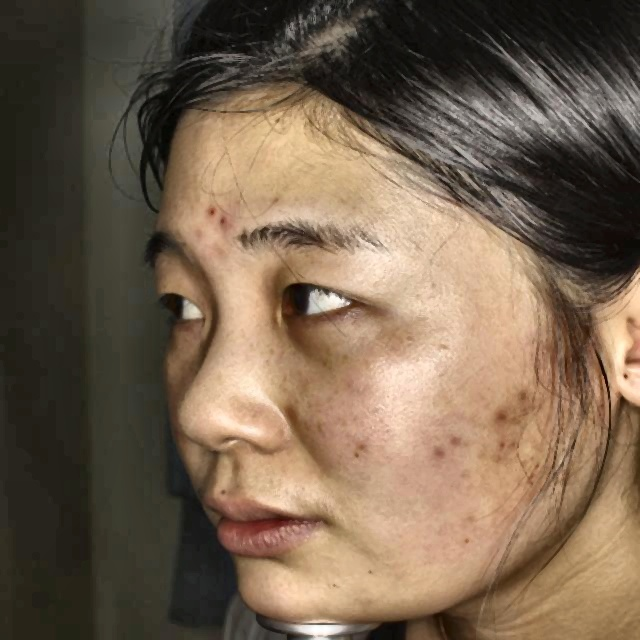pustule: (487, 432, 533, 482), (504, 381, 540, 410), (484, 404, 516, 431), (441, 431, 467, 455), (429, 444, 446, 465), (200, 201, 218, 218), (213, 217, 232, 231)
